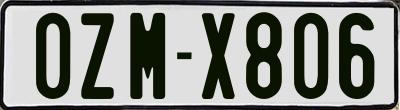0: (33, 10, 71, 97), (294, 11, 332, 97)
6: (339, 11, 376, 103)
8: (245, 10, 282, 100)
M: (130, 12, 167, 100)
X: (200, 13, 239, 103)
Z: (78, 12, 115, 102)
